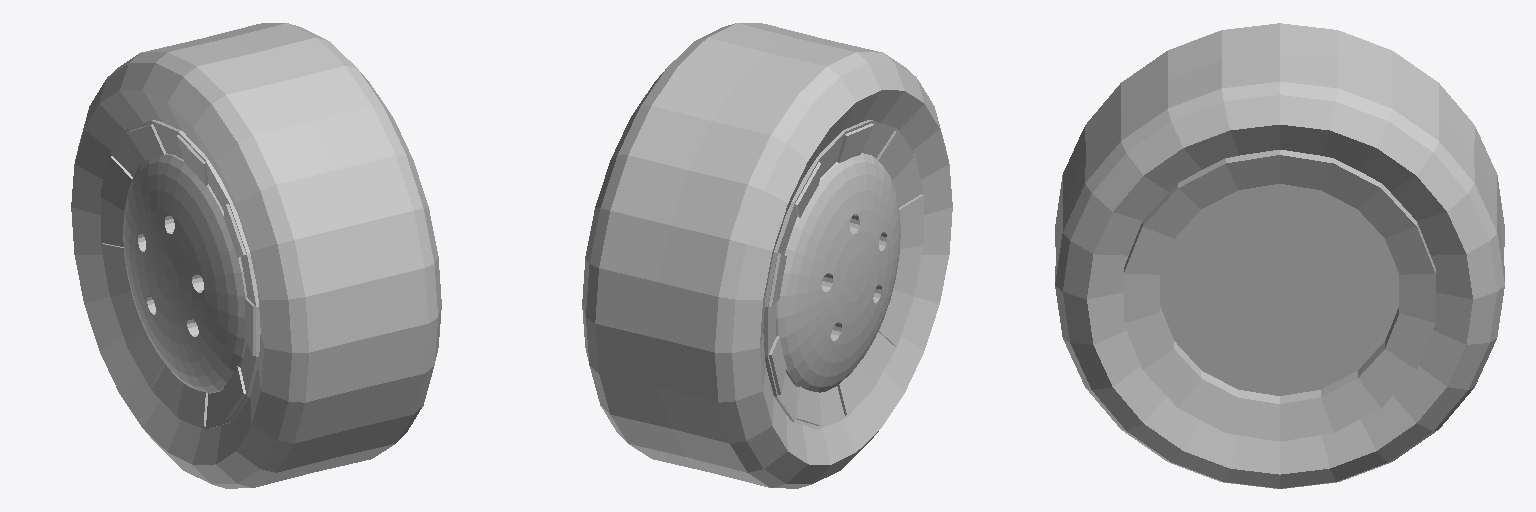
The model's file is llanta.obj.
The picture shows the model from 3 angles: view 1: azimuth 30°, elevation 25°; view 2: azimuth 150°, elevation 25°; view 3: azimuth 270°, elevation 25°; orthographic projection.
Visible parts, largest first — view 1: Torus01, Sphere01, Tube01, Tube02; view 2: Torus01, Sphere01, Tube01, Tube02; view 3: Torus01, Cylinder01, Tube02, Tube01.
Boxes of the visible parts, x1=… form: Torus01: x1=71, y1=23, x2=441, y2=488; Sphere01: x1=123, y1=153, x2=247, y2=393; Tube01: x1=101, y1=120, x2=260, y2=429; Tube02: x1=101, y1=124, x2=255, y2=426; Torus01: x1=582, y1=23, x2=952, y2=488; Sphere01: x1=776, y1=153, x2=900, y2=392; Tube01: x1=763, y1=120, x2=923, y2=429; Tube02: x1=769, y1=123, x2=922, y2=425; Torus01: x1=1055, y1=23, x2=1504, y2=488; Cylinder01: x1=1160, y1=184, x2=1398, y2=395; Tube02: x1=1124, y1=151, x2=1435, y2=441; Tube01: x1=1124, y1=150, x2=1435, y2=400.
Size of the model in its own units: 55.91 by 122 by 122.